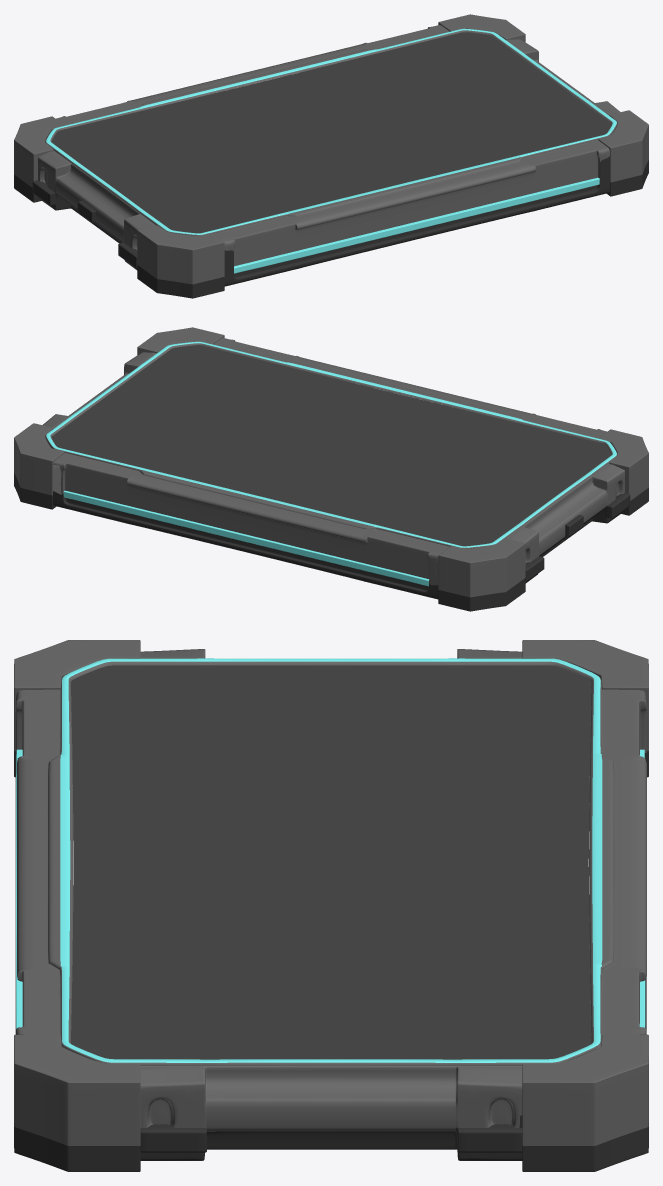
The model's file is tbs2.glb.
The picture shows the model from 3 angles, top to bottom: view 1: azimuth 30°, elevation 25°; view 2: azimuth 150°, elevation 25°; view 3: azimuth 270°, elevation 25°; orthographic projection. The views are drawn at different scales.
Parts seen in each view (by area): view 1: pCube2; view 2: pCube2; view 3: pCube2.
Boxes of the visible parts, x1,y1,x2,y2 form: pCube2: (14,14,648,298); pCube2: (14,327,648,611); pCube2: (14,640,648,1171).
Bounding box in the file's own units: 0.3097 × 0.0308 × 0.1873.
